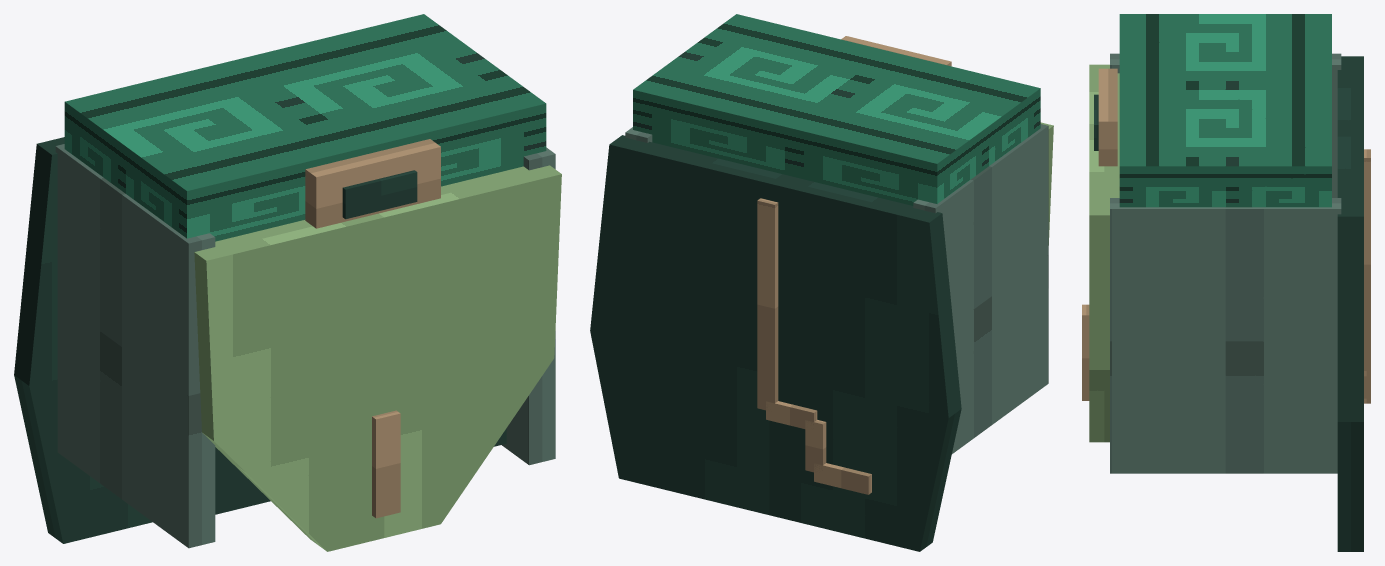
File: yuanying_qingdi_leggings.obj
The picture shows the model from 3 angles, left to right: view 1: azimuth 30°, elevation 25°; view 2: azimuth 150°, elevation 25°; view 3: azimuth 270°, elevation 25°; orthographic projection. The views are drawn at different scales.
Parts seen in each view (by area): view 1: wood_fore_calyx, wood_belt, wood_side_cloth_-1, wood_rear_hem, wood_root_buckle, wood_side_cloth_1, wood_fore_root, wood_buckle_inlay, wood_pants_-1; view 2: wood_rear_hem, wood_belt, wood_side_cloth_-1, wood_hem_root_3, wood_hem_root_0, wood_hem_root_1, wood_hem_root_2, wood_root_buckle; view 3: wood_side_cloth_1, wood_belt, wood_rear_hem, wood_fore_calyx, wood_root_buckle, wood_hem_root_3, wood_side_cloth_-1, wood_fore_root.
Boxes of the visible parts, x1=… form: wood_fore_calyx: x1=194, y1=165, x2=561, y2=551; wood_belt: x1=64, y1=14, x2=546, y2=241; wood_side_cloth_-1: x1=55, y1=144, x2=215, y2=548; wood_rear_hem: x1=14, y1=137, x2=152, y2=543; wood_root_buckle: x1=305, y1=139, x2=440, y2=228; wood_side_cloth_1: x1=502, y1=147, x2=555, y2=465; wood_fore_root: x1=372, y1=410, x2=400, y2=518; wood_buckle_inlay: x1=342, y1=170, x2=417, y2=219; wood_pants_-1: x1=215, y1=447, x2=270, y2=514; wood_rear_hem: x1=590, y1=135, x2=961, y2=551; wood_belt: x1=633, y1=14, x2=1040, y2=205; wood_side_cloth_-1: x1=913, y1=124, x2=1048, y2=453; wood_hem_root_3: x1=757, y1=198, x2=778, y2=410; wood_hem_root_0: x1=814, y1=463, x2=871, y2=494; wood_hem_root_1: x1=805, y1=420, x2=826, y2=472; wood_hem_root_2: x1=766, y1=401, x2=817, y2=428; wood_root_buckle: x1=841, y1=36, x2=951, y2=66; wood_side_cloth_1: x1=1110, y1=198, x2=1341, y2=473; wood_belt: x1=1119, y1=14, x2=1331, y2=207; wood_rear_hem: x1=1337, y1=56, x2=1363, y2=551; wood_fore_calyx: x1=1089, y1=64, x2=1119, y2=442; wood_root_buckle: x1=1098, y1=68, x2=1117, y2=166; wood_hem_root_3: x1=1364, y1=149, x2=1370, y2=370; wood_side_cloth_-1: x1=1110, y1=53, x2=1341, y2=197; wood_fore_root: x1=1082, y1=304, x2=1089, y2=400.
Size of the model in its own units: 0.7 by 0.7031 by 0.4762.
